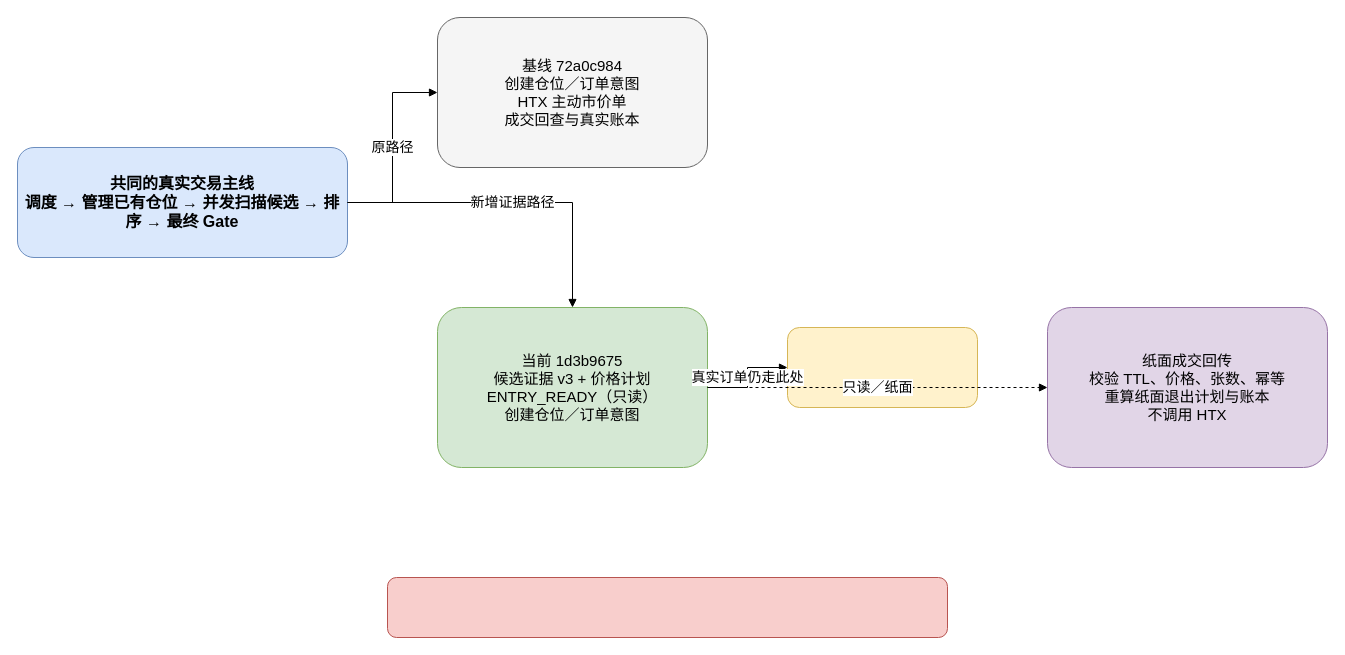
Some shapes in this 1345 by 655 pixel diagram are drawn without their labels. The centre of each missing label's shape, as x and y in pixels:
HTX 主动市价单 不变: (x=882, y=367)
关键：真实开仓 Gate、仓位 sizing、下单方式和退出引擎均未改变: (x=667, y=607)
